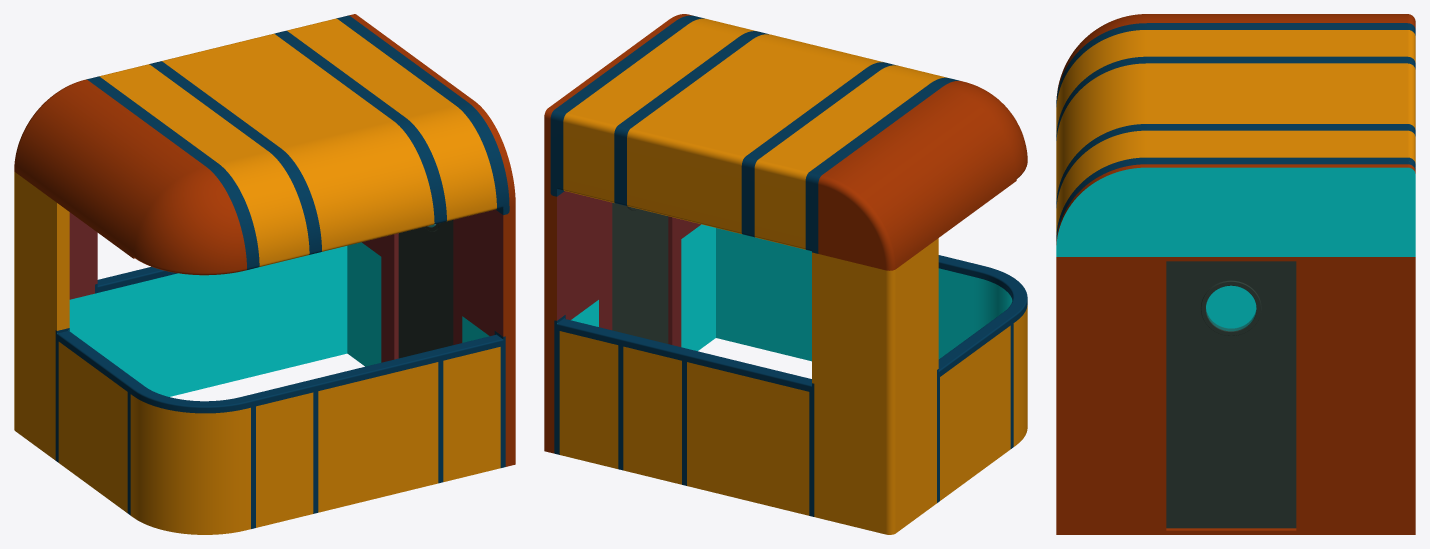
Rendered from Wall_Base.fbx.
3 views of the same model, side by side, from view 1: azimuth 30°, elevation 25°; view 2: azimuth 150°, elevation 25°; view 3: azimuth 270°, elevation 25° (orthographic). The views are drawn at different scales.
Parts seen in each view (by area): view 1: Wall_D_1, Wall_Roof, The_Wall, Wall_B_1, Wall_Round_Corner, Wall_Sharp_Corner, Wall_C_1, Wall_C_2, Wall_B_3, Wall_B_2, Wall_A_2, Wall_A_1 (+3 smaller); view 2: Wall_Sharp_Corner, Wall_D_1, Wall_Roof, The_Wall, Wall_B_3, Wall_C_1, Wall_C_2, Wall_B_2, Wall_A_4, Wall_A_3, Door, Wall_A_2 (+3 smaller); view 3: The_Wall, Door, Wall_D_1, Wall_C_2, Wall_C_1, Wall_Roof, Wall_B_2.
Boxes of the visible parts, x1,y1,x2,y2 form: Wall_D_1: (155,32,440,253); Wall_Roof: (14,78,253,275); The_Wall: (343,14,515,467); Wall_B_1: (309,350,440,513); Wall_Round_Corner: (129,383,253,534); Wall_Sharp_Corner: (14,172,97,461); Wall_C_1: (93,62,315,268); Wall_C_2: (280,17,503,222); Wall_B_3: (97,266,222,396); Wall_B_2: (57,331,140,514); Wall_A_2: (434,334,503,482); Wall_A_1: (247,380,315,528); Wall_Sharp_Corner: (812,238,938,534); Wall_D_1: (620,32,890,235); Wall_Roof: (812,79,1027,270); The_Wall: (544,14,715,454); Wall_B_3: (684,349,811,516); Wall_C_1: (748,63,953,251); Wall_C_2: (557,17,761,204); Wall_B_2: (938,314,1012,501); Wall_A_4: (620,334,690,485); Wall_A_3: (557,318,627,469); Door: (612,202,668,343); Wall_A_2: (716,228,779,353); The_Wall: (1056,161,1415,534); Door: (1166,261,1296,528); Wall_D_1: (1056,60,1415,204); Wall_C_2: (1056,127,1415,237); Wall_C_1: (1056,26,1415,137); Wall_Roof: (1056,14,1415,103); Wall_B_2: (1206,286,1255,327).
Bounding box in the file's own units: 273 × 255 × 226.
